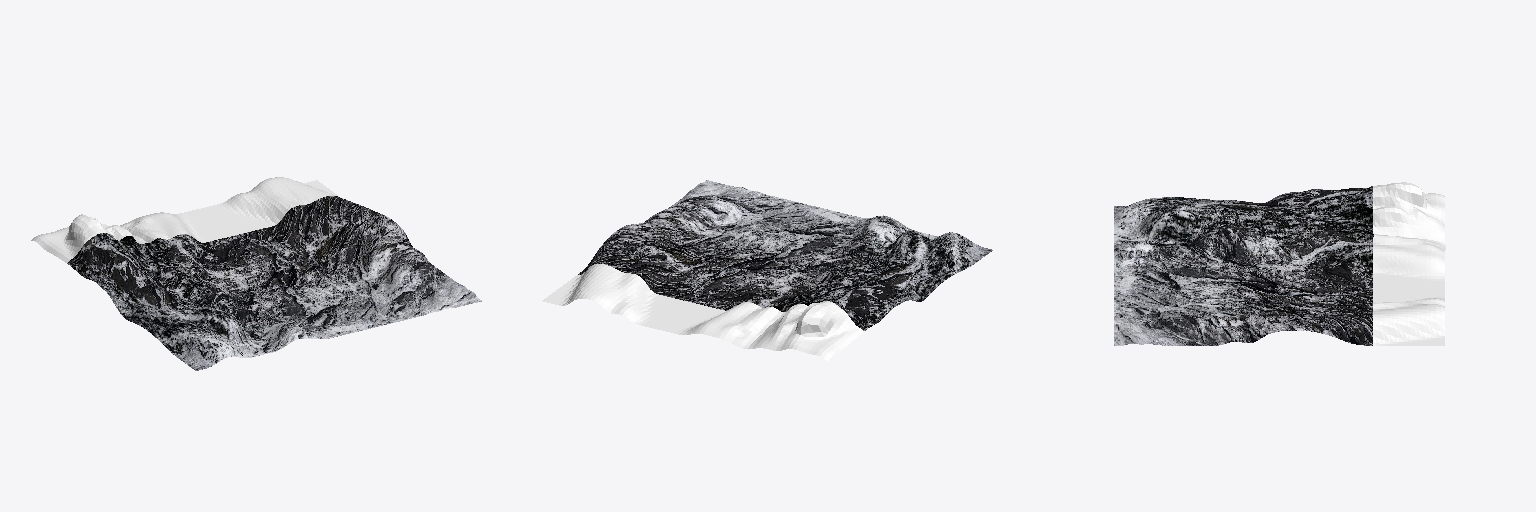
The picture shows the model from 3 angles: view 1: azimuth 30°, elevation 25°; view 2: azimuth 150°, elevation 25°; view 3: azimuth 270°, elevation 25°; orthographic projection.
Visible parts, largest first — view 1: Plane; view 2: Plane; view 3: Plane.
Part boxes in pixels (x1,y1,x2,y2): Plane: (31, 177, 481, 370); Plane: (542, 180, 992, 360); Plane: (1114, 182, 1445, 345).
Bounding box in the file's own units: 60.23 × 7.89 × 60.09.
1 materials, 1 textured.